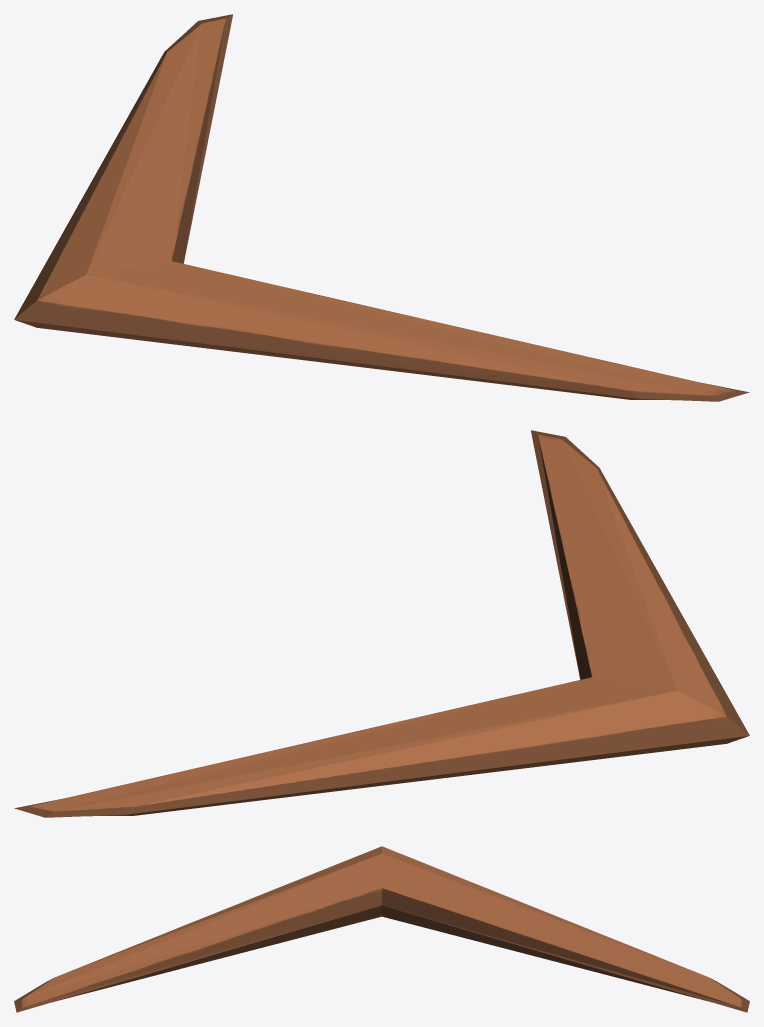
File: boomerang.obj
3 renders of one model, top to bottom at view 1: azimuth 30°, elevation 25°; view 2: azimuth 150°, elevation 25°; view 3: azimuth 270°, elevation 25°, orthographic. The views are drawn at different scales.
Visible parts, largest first — view 1: Cube_Cube.001; view 2: Cube_Cube.001; view 3: Cube_Cube.001.
Boxes of the visible parts, x1,y1,x2,y2 form: Cube_Cube.001: [14, 14, 749, 401]; Cube_Cube.001: [14, 430, 749, 817]; Cube_Cube.001: [14, 846, 749, 1012].
Size of the model in its own units: 0.319 by 0.035 by 0.6021.
1 material, 1 textured.
